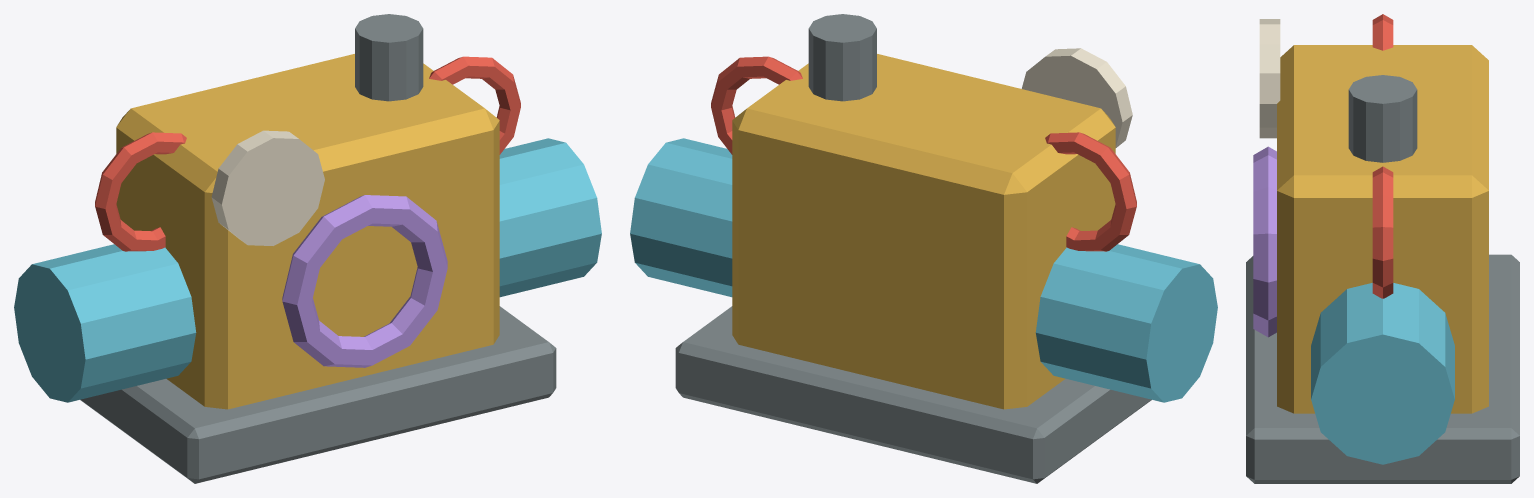
File: facility_c04_repair_pump_authored.glb
3 renders of one model, left to right at view 1: azimuth 30°, elevation 25°; view 2: azimuth 150°, elevation 25°; view 3: azimuth 270°, elevation 25°, orthographic.
Parts seen in each view (by area): view 1: PumpBody, Base, InletSocket, ReplaceableSeal, OutletSocket, PressureGauge, Exhaust, ValveWheel, ValveWheel.001; view 2: PumpBody, Base, InletSocket, OutletSocket, Exhaust, PressureGauge, ValveWheel, ValveWheel.001; view 3: PumpBody, Base, OutletSocket, Exhaust, ReplaceableSeal, ValveWheel.001, PressureGauge, ValveWheel.
Part boxes in pixels (x1,y1,x2,y2): PumpBody: (116,54,499,409); Base: (80,306,556,483); InletSocket: (14,244,196,402); ReplaceableSeal: (282,195,447,367); OutletSocket: (499,138,601,297); PressureGauge: (211,130,324,245); Exhaust: (355,14,423,101); ValveWheel: (95,132,186,251); ValveWheel.001: (429,56,520,154); PumpBody: (732,54,1115,409); Base: (675,306,1151,483); InletSocket: (1035,244,1217,402); OutletSocket: (630,138,732,297); Exhaust: (808,14,876,101); PressureGauge: (1021,48,1132,147); ValveWheel: (1045,132,1136,251); ValveWheel.001: (711,56,802,154); PumpBody: (1277,45,1488,413); Base: (1246,254,1519,483); OutletSocket: (1311,283,1454,464); Exhaust: (1348,75,1417,162); ReplaceableSeal: (1253,146,1276,337); ValveWheel.001: (1372,166,1393,298); PressureGauge: (1259,19,1280,138); ValveWheel: (1372,14,1393,50).
Size of the model in its own units: 3.5 by 2.24 by 1.6.
